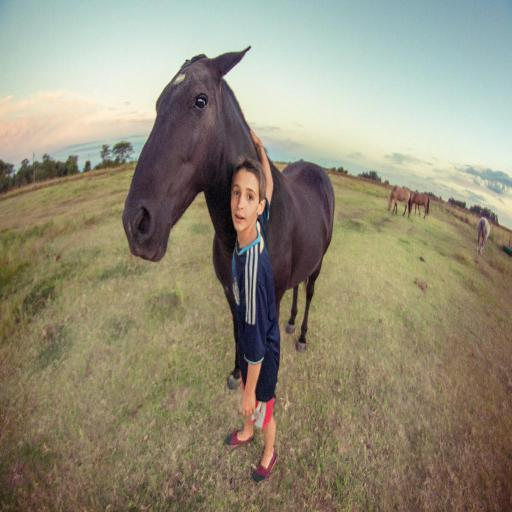Horse: (121, 45, 336, 391), (387, 187, 413, 219), (410, 194, 430, 220), (478, 219, 491, 256)
